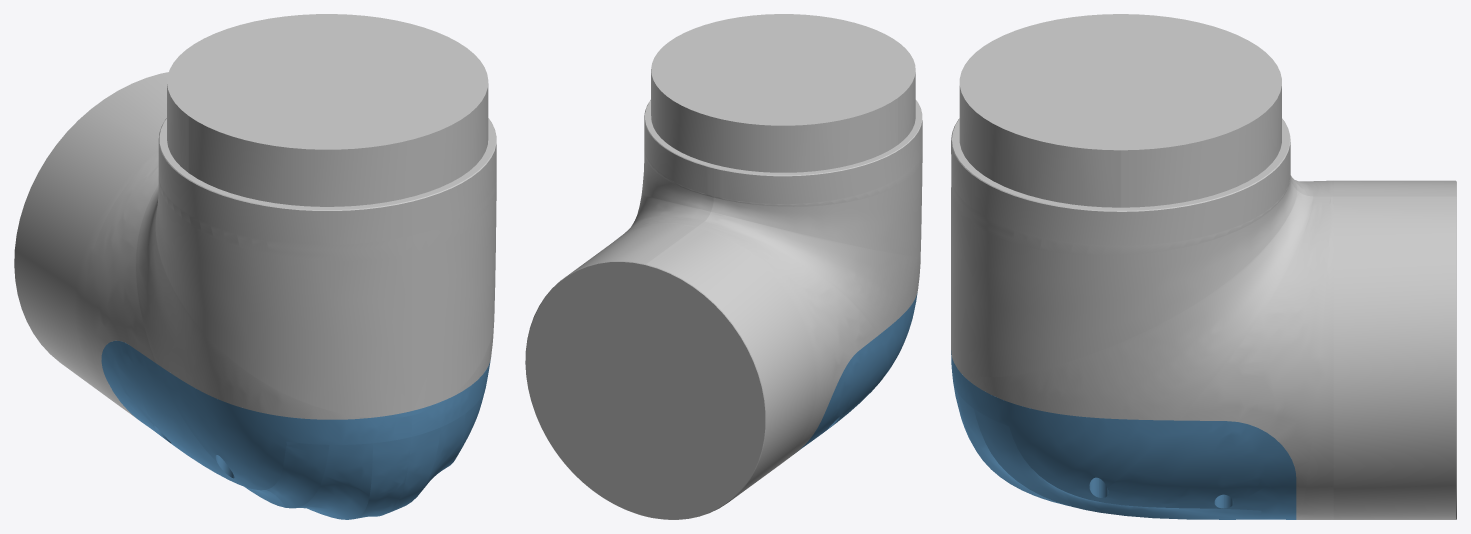
The model's file is NOVA2_J1.gltf.
3 renders of one model, left to right at view 1: azimuth 30°, elevation 25°; view 2: azimuth 150°, elevation 25°; view 3: azimuth 270°, elevation 25°, orthographic. The views are drawn at different scales.
Parts seen in each view (by area): view 1: J1-PART1, J1-PART2; view 2: J1-PART1, J1-PART2; view 3: J1-PART1, J1-PART2.
Boxes of the visible parts, box(x1,y1,x2,y2) form: J1-PART1: box(14, 14, 496, 419); J1-PART2: box(101, 340, 490, 519); J1-PART1: box(525, 14, 922, 519); J1-PART2: box(796, 293, 917, 452); J1-PART1: box(951, 14, 1456, 519); J1-PART2: box(951, 350, 1296, 519).
Bounding box in the file's own units: 0.089 × 0.1222 × 0.1326.
